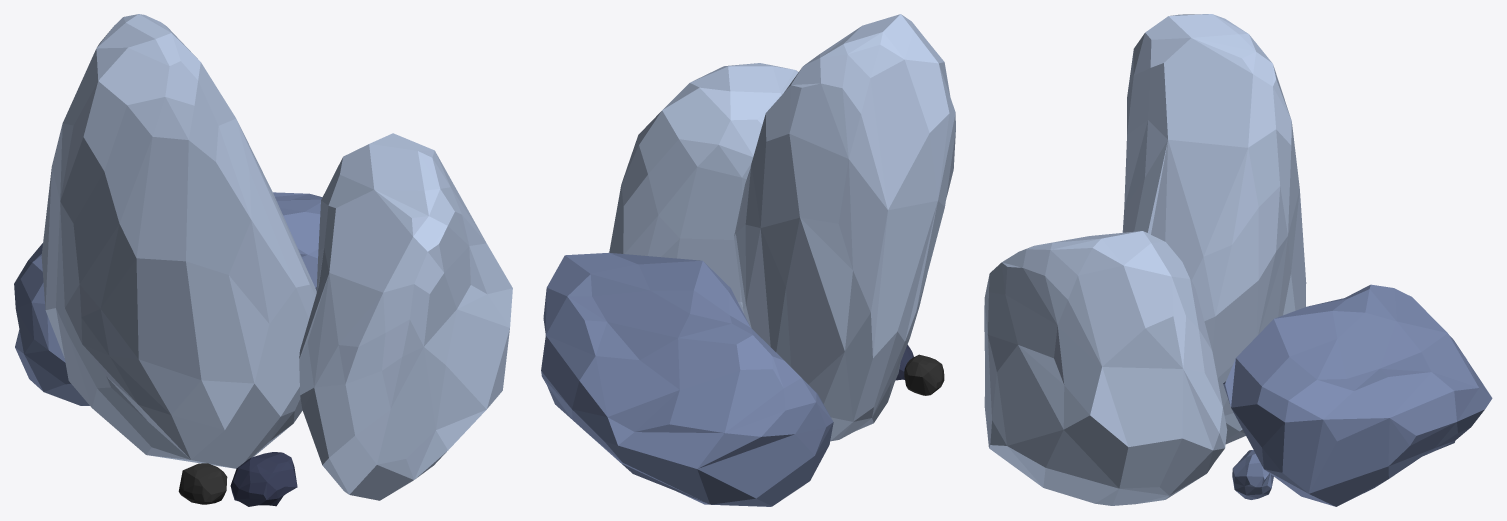
The model's file is Rock1.fbx.
3 views of the same model, side by side, from view 1: azimuth 30°, elevation 25°; view 2: azimuth 150°, elevation 25°; view 3: azimuth 270°, elevation 25° (orthographic). The views are drawn at different scales.
Visible parts, largest first — view 1: Rock.001, Rock, Rock.002, Rock.004, Rock.003; view 2: Rock.001, Rock.002, Rock, Rock.003; view 3: Rock, Rock.001, Rock.002, Rock.005.
Boxes of the visible parts, box(x1,y1,x2,y2) form: Rock.001: box(41, 14, 316, 468); Rock: box(299, 133, 512, 500); Rock.002: box(14, 192, 322, 405); Rock.004: box(230, 452, 297, 506); Rock.003: box(178, 463, 227, 504); Rock.001: box(734, 14, 955, 441); Rock.002: box(541, 252, 833, 506); Rock: box(609, 63, 798, 313); Rock.003: box(904, 354, 944, 395); Rock: box(984, 231, 1227, 505); Rock.001: box(1122, 14, 1306, 444); Rock.002: box(1223, 284, 1492, 506); Rock.005: box(1232, 450, 1273, 499).
Size of the model in its own units: 233 by 185 by 205.
